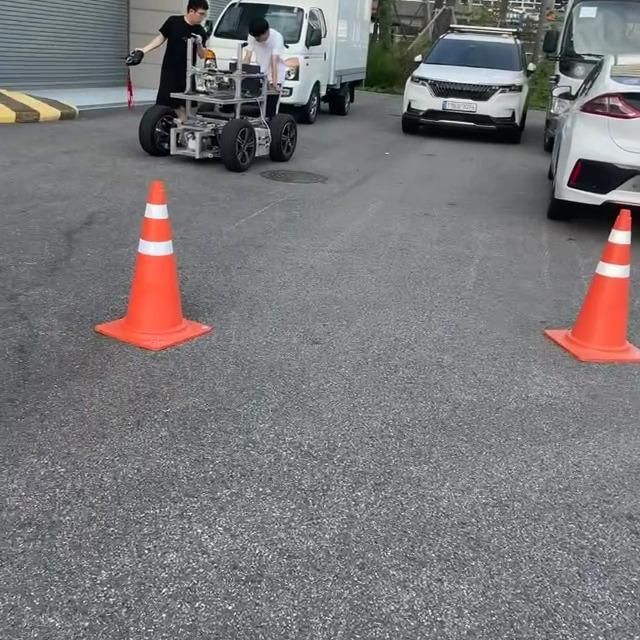fallen_object: (72, 150, 266, 389), (561, 186, 640, 393)
